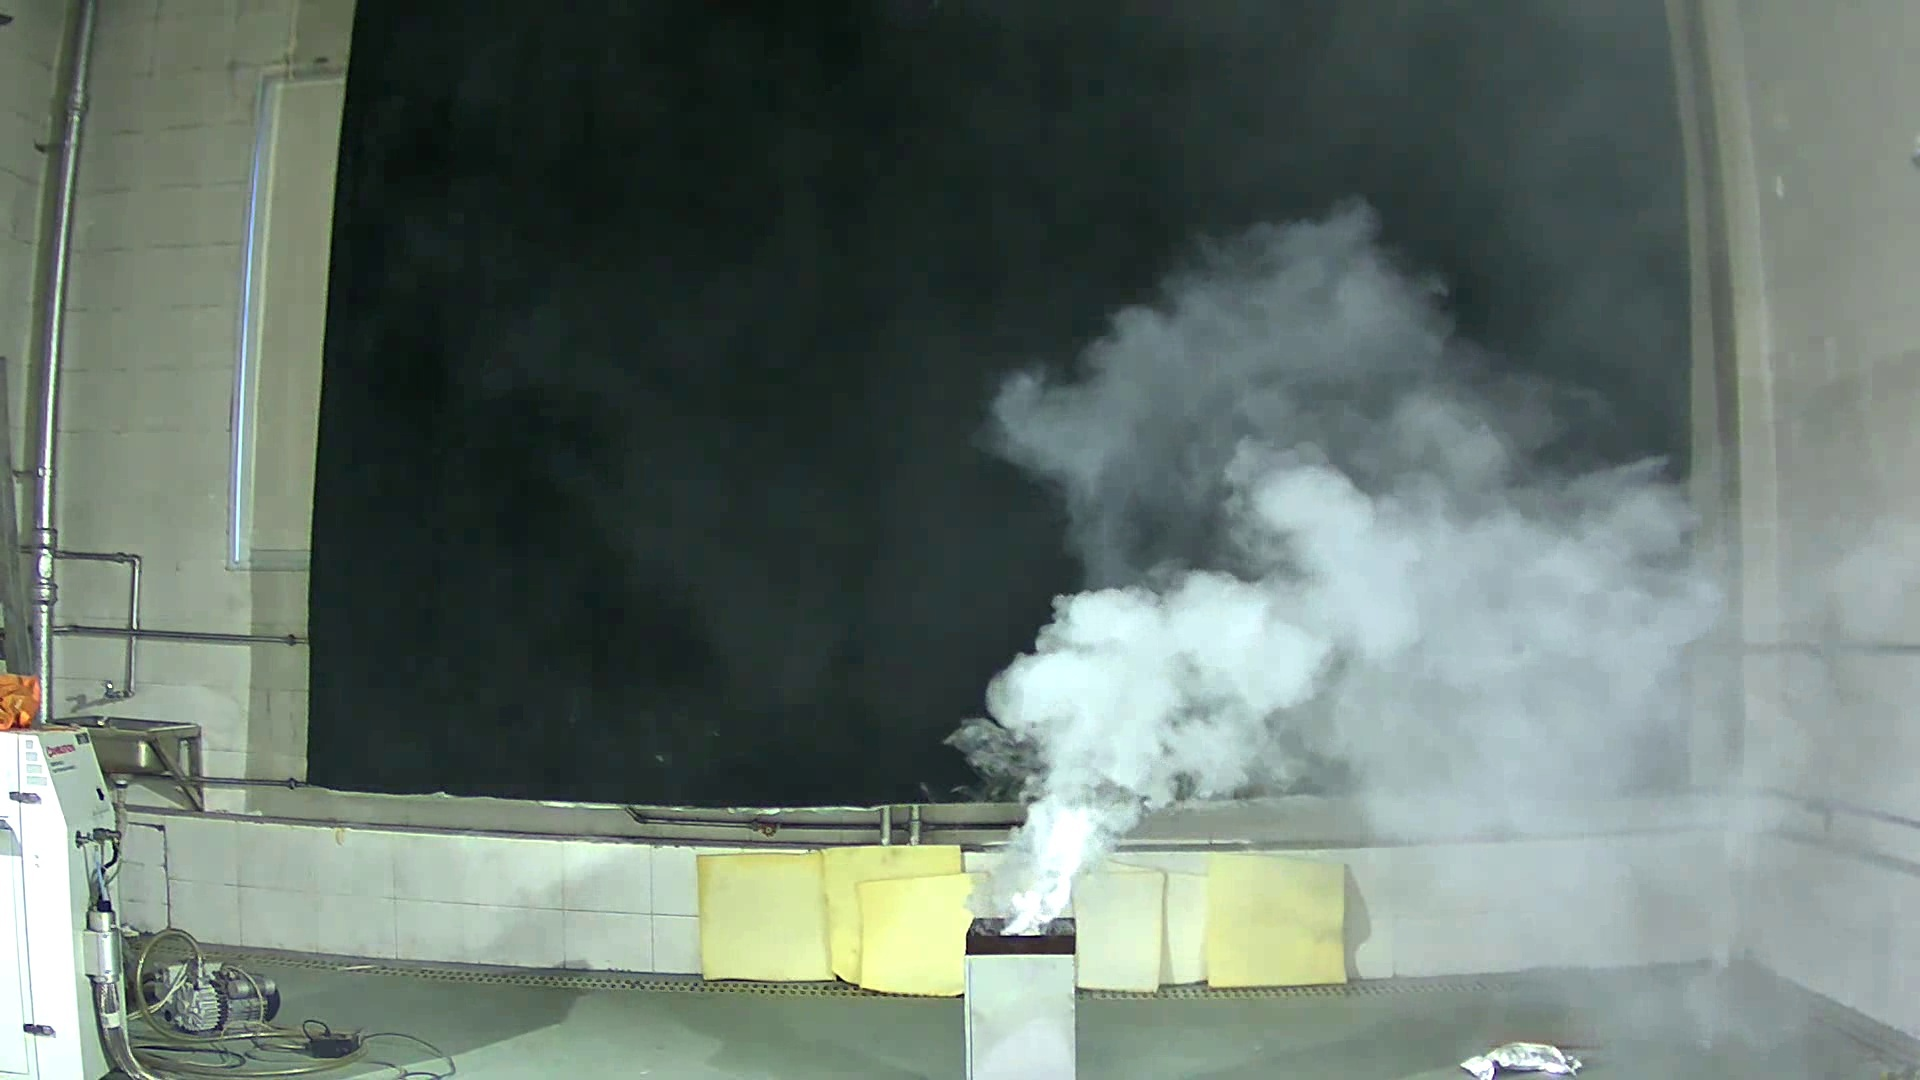smoke: (931, 191, 1702, 934)
